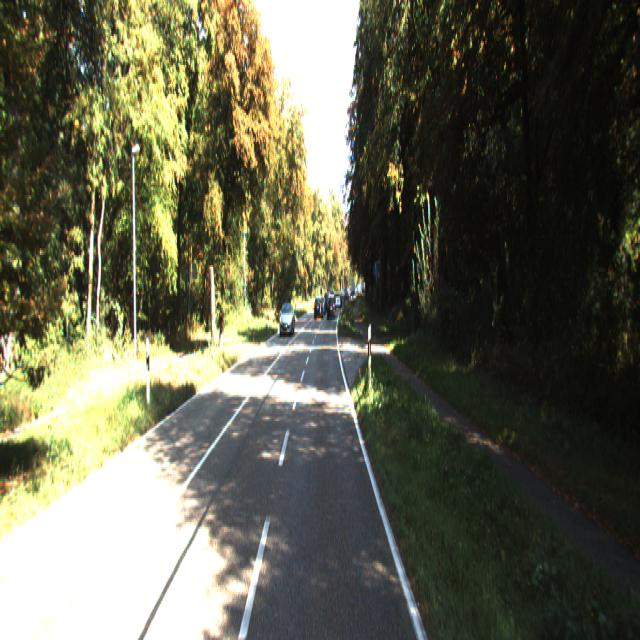Car: (278, 300, 296, 334)
